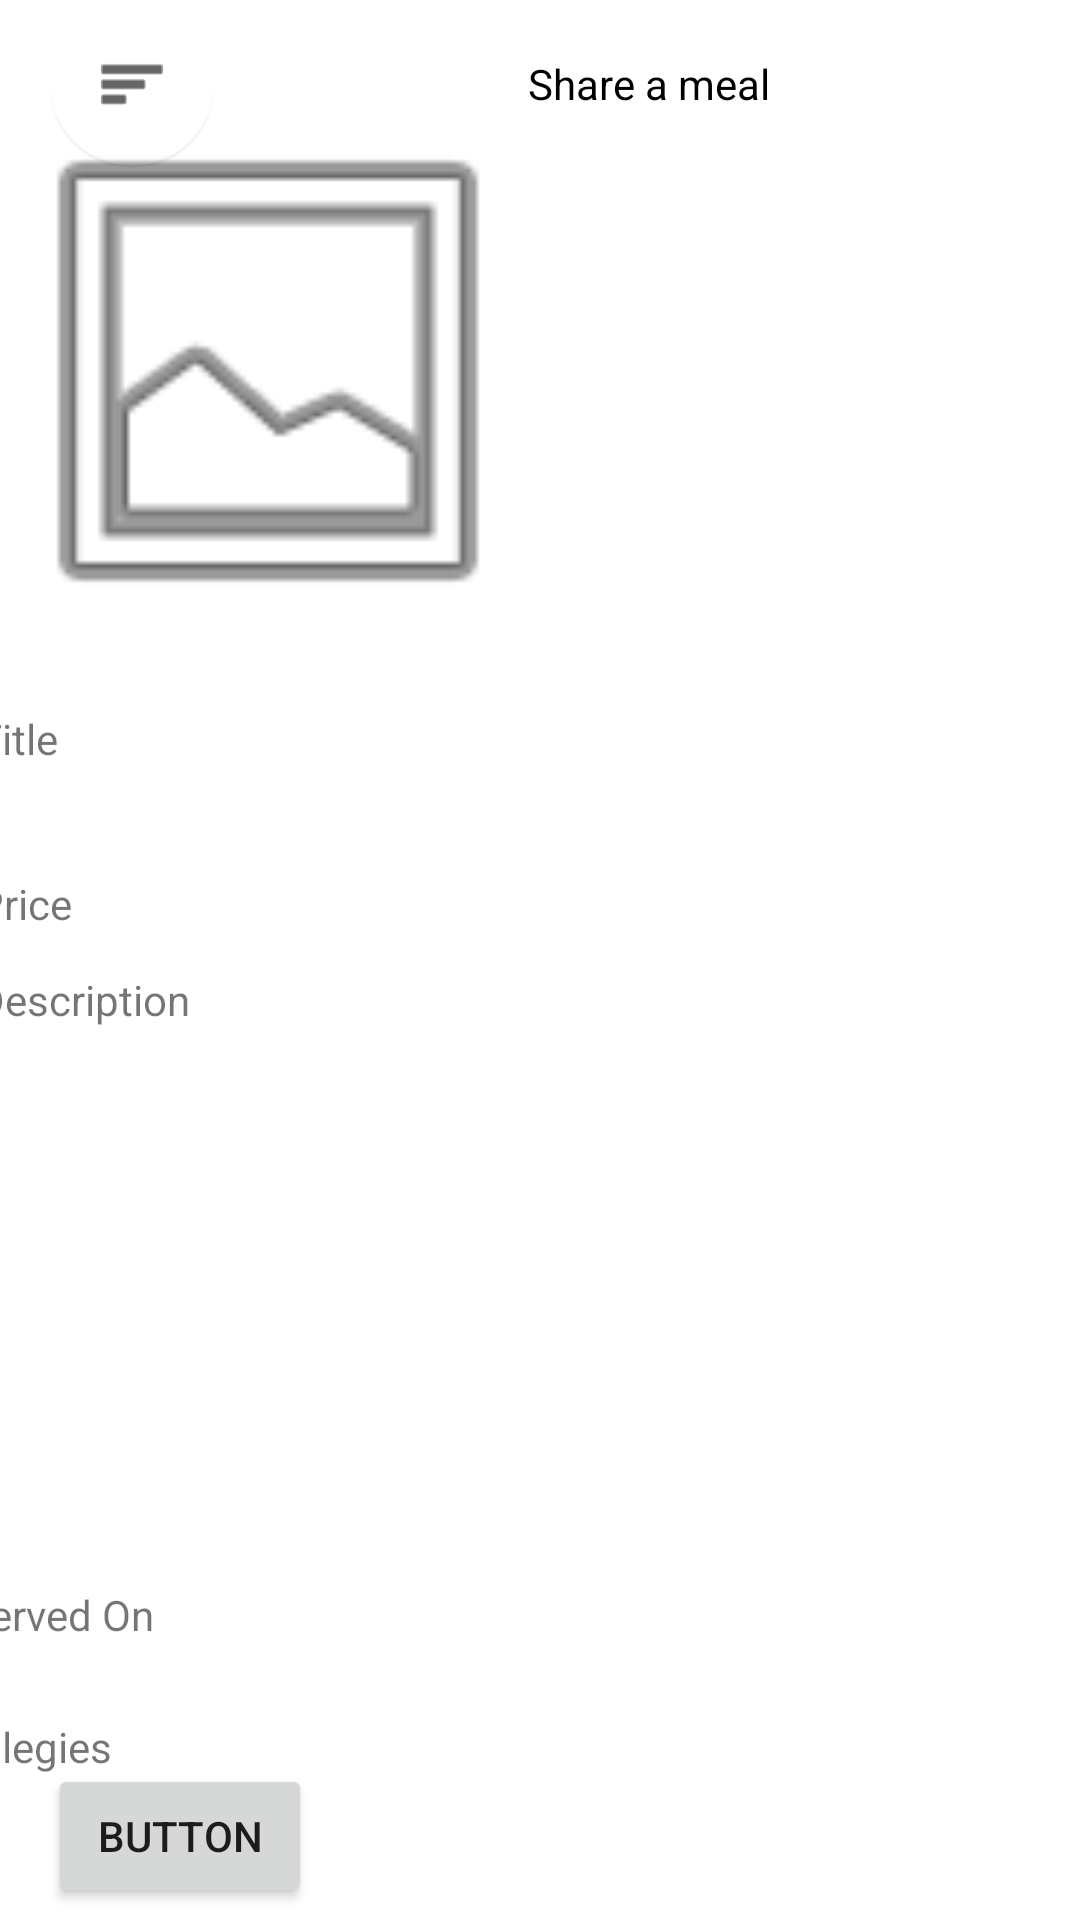

Icons on this 1080px x 1920px Android screen, each with the point to tap as [x,y]:
Menubutton: [132,84]
